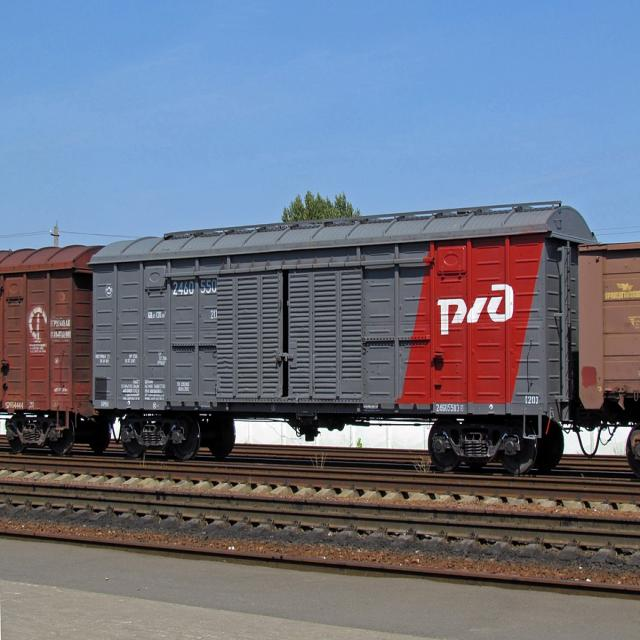boxcar: (85, 171, 594, 476), (0, 228, 92, 464)
